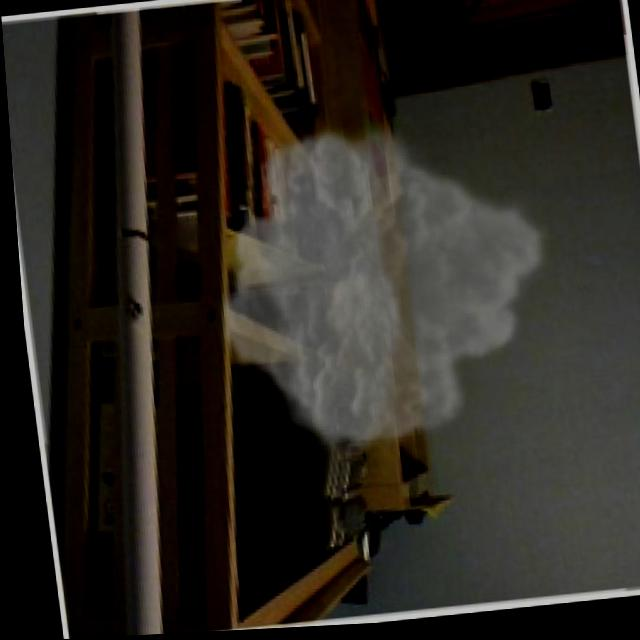Smoke: (191, 102, 570, 475)
